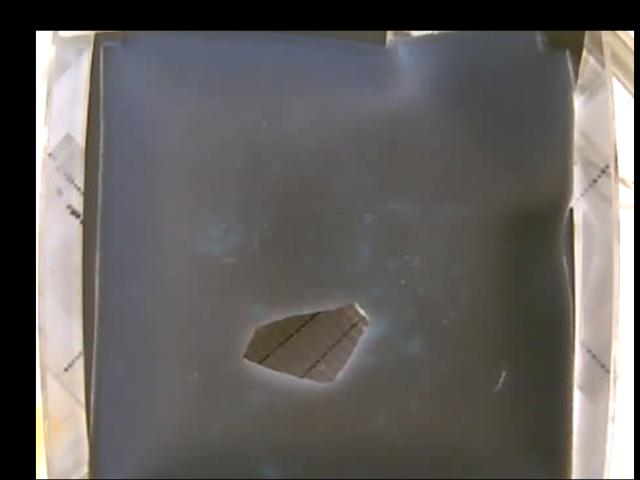China: (244, 297, 370, 383)
